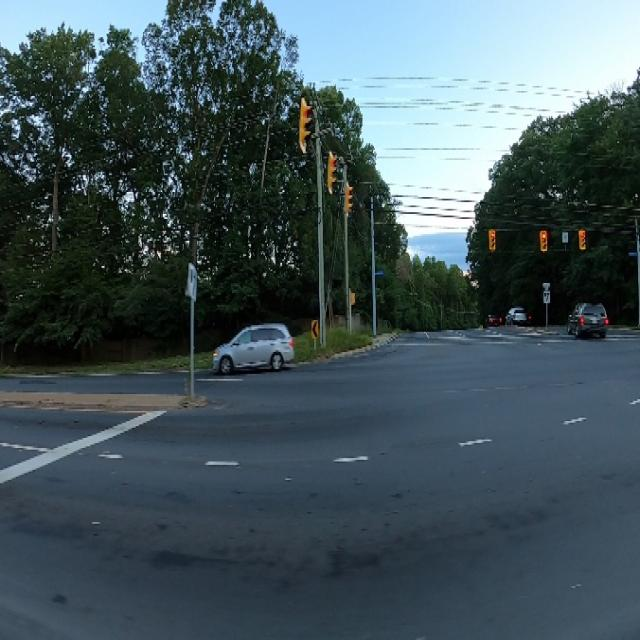car: (198, 310, 300, 379), (560, 285, 607, 354)
